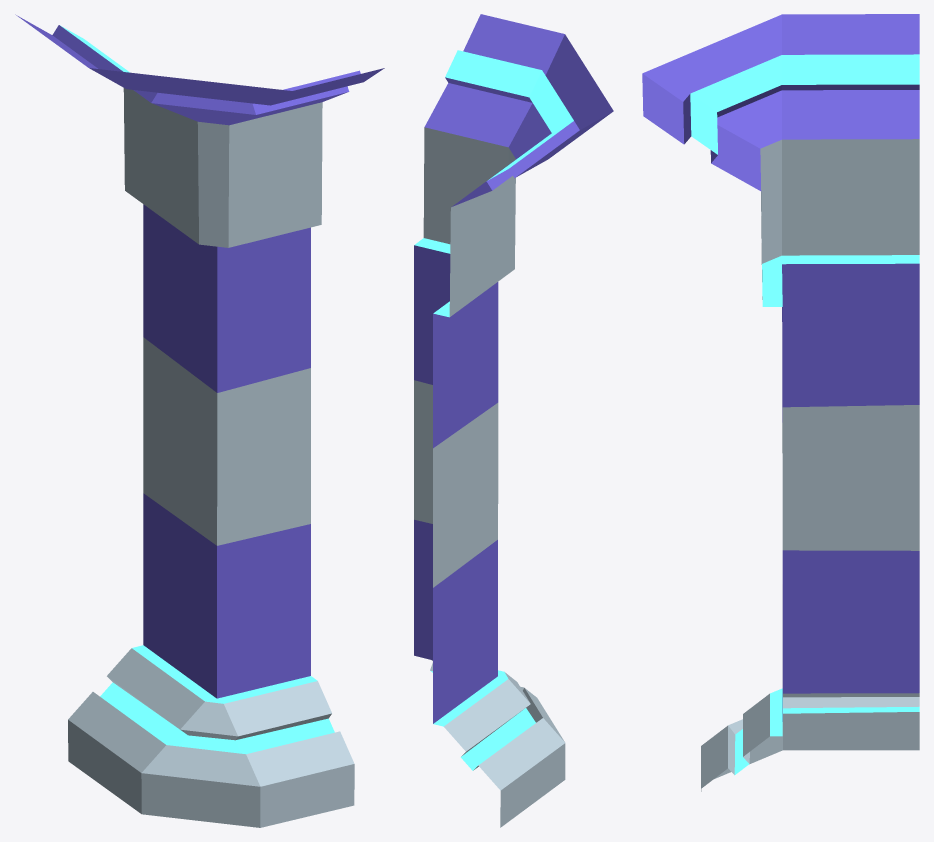
The model's file is HalfPillar.fbx.
The picture shows the model from 3 angles, left to right: view 1: azimuth 30°, elevation 25°; view 2: azimuth 150°, elevation 25°; view 3: azimuth 270°, elevation 25°; orthographic projection. The views are drawn at different scales.
Parts seen in each view (by area): view 1: Half_PillarWall_A; view 2: Half_PillarWall_A; view 3: Half_PillarWall_A.
Part boxes in pixels (bbox=[...]): Half_PillarWall_A: bbox=[15, 14, 384, 827]; Half_PillarWall_A: bbox=[414, 14, 613, 827]; Half_PillarWall_A: bbox=[642, 14, 919, 791].
Size of the model in its own units: 212 by 690 by 244.
